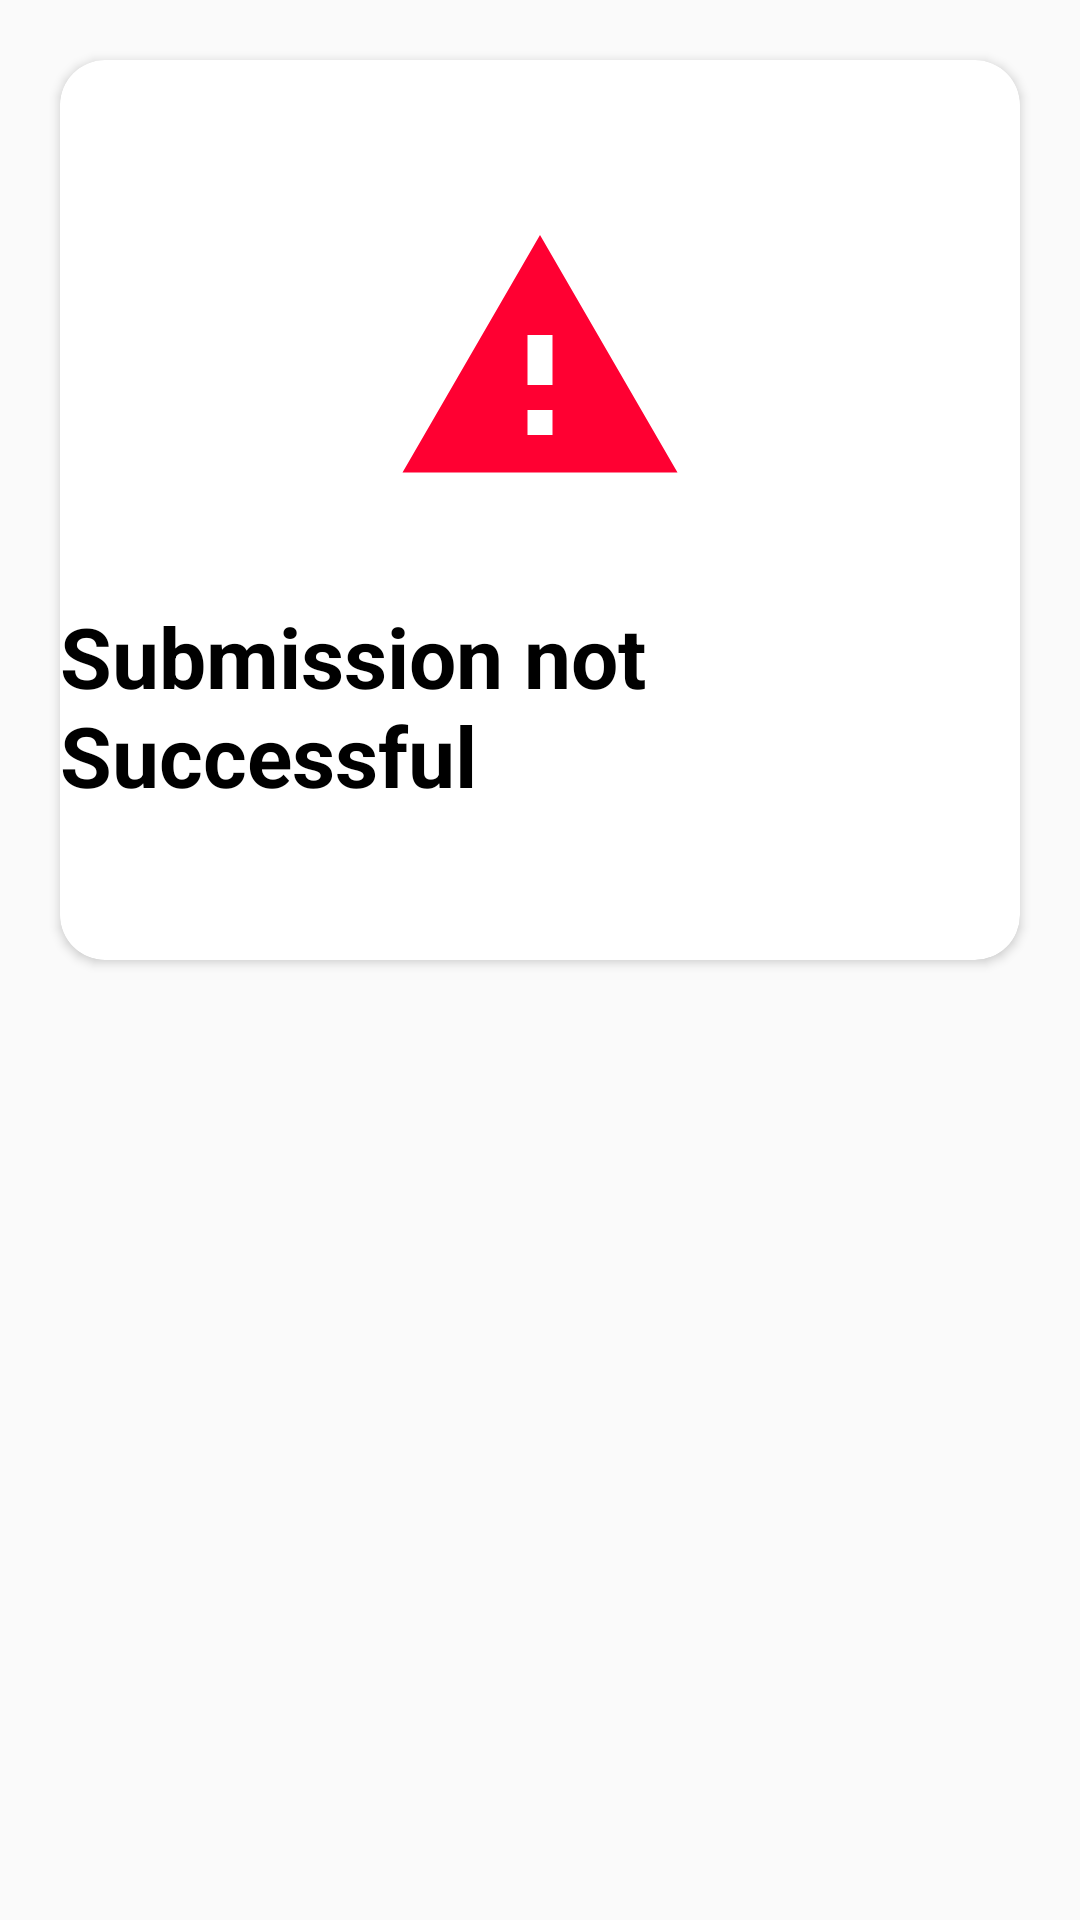

Icon bounding boxes for this 1080w x 1920h phone screenshot, format (x1, y1, x2, y2):
warning: (402, 235, 678, 473)
